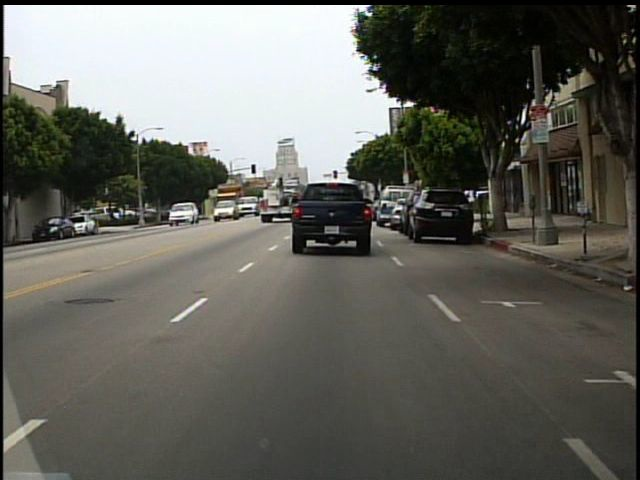person: (464, 183, 479, 224)
